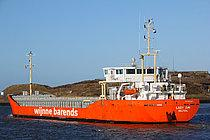Ship: (6, 14, 202, 127)
